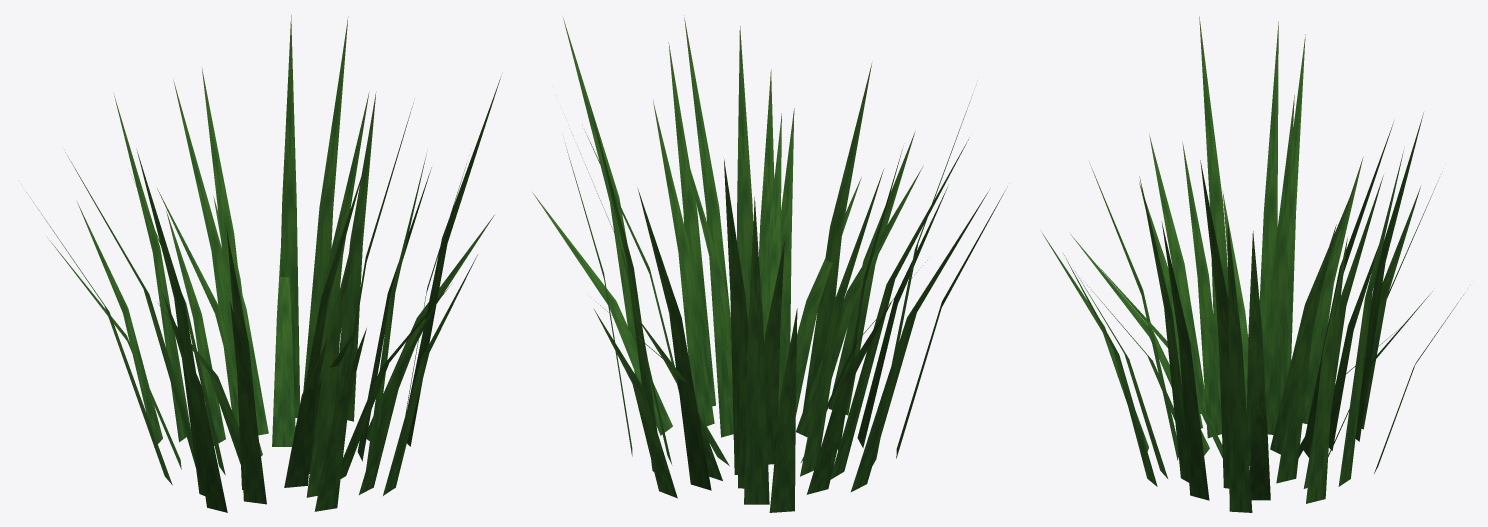
The model's file is grass_clump_01.glb.
3 renders of one model, left to right at view 1: azimuth 30°, elevation 25°; view 2: azimuth 150°, elevation 25°; view 3: azimuth 270°, elevation 25°, orthographic. The views are drawn at different scales.
Visible parts, largest first — view 1: Grass_Clump_01; view 2: Grass_Clump_01; view 3: Grass_Clump_01.
Boxes of the visible parts, left/top/right/bottom form: Grass_Clump_01: left=26, top=15, right=501, bottom=512; Grass_Clump_01: left=532, top=15, right=1007, bottom=512; Grass_Clump_01: left=1041, top=16, right=1463, bottom=512.
Bounding box in the file's own units: 0.7004 × 0.5579 × 0.6061.
Materials: 1 (1 with a texture image).
